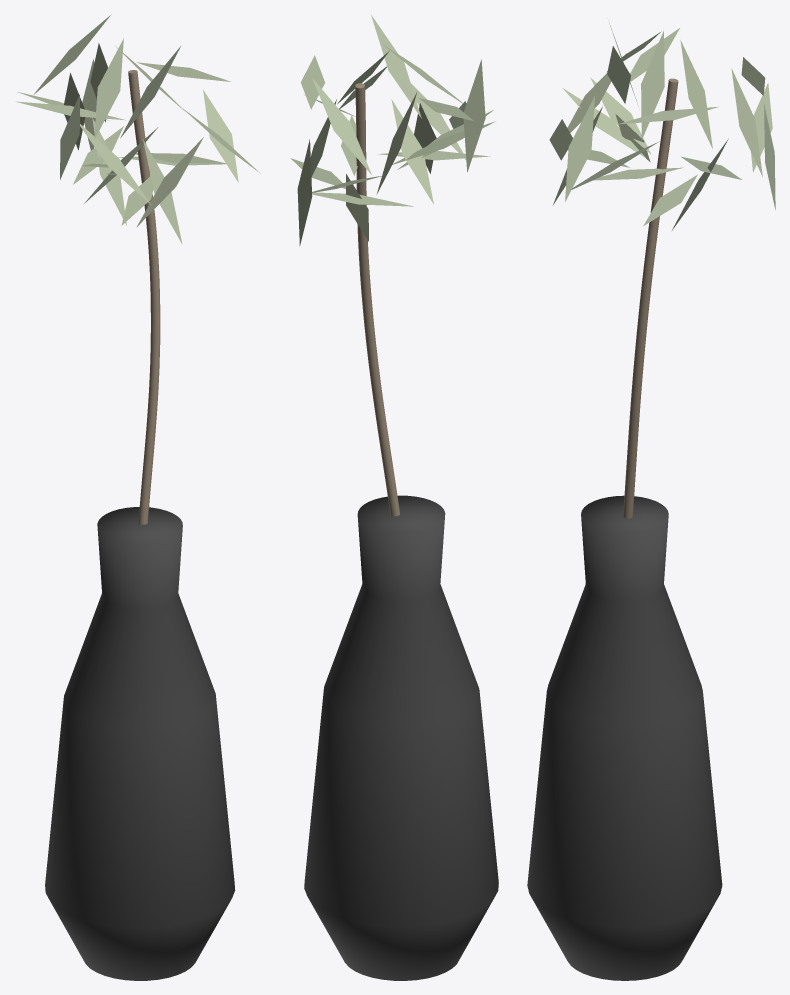
The model's file is it_vase_black.glb.
3 views of the same model, side by side, from view 1: azimuth 30°, elevation 25°; view 2: azimuth 150°, elevation 25°; view 3: azimuth 270°, elevation 25° (orthographic). The views are drawn at different scales.
Parts seen in each view (by area): view 1: vase, leaves, stem; view 2: vase, leaves, stem; view 3: vase, leaves, stem.
Part boxes in pixels (bbox=[...]): vase: bbox=[45, 507, 235, 980]; leaves: bbox=[16, 14, 260, 244]; stem: bbox=[128, 70, 160, 524]; vase: bbox=[304, 495, 498, 980]; leaves: bbox=[290, 15, 495, 245]; stem: bbox=[355, 83, 399, 516]; vase: bbox=[527, 495, 722, 980]; leaves: bbox=[549, 22, 775, 230]; stem: bbox=[623, 78, 678, 518].
Size of the model in its own units: 0.2405 by 1.05 by 0.2546.
